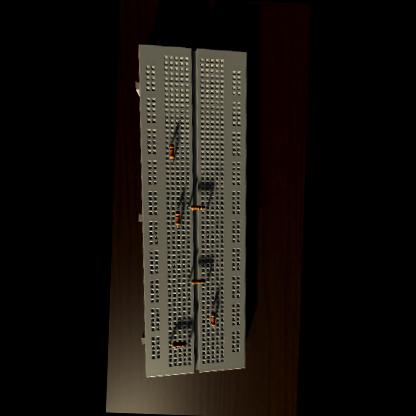breadboard: (125, 44, 257, 381)
resistor: (168, 144, 174, 159), (172, 341, 186, 347), (190, 205, 204, 210), (175, 211, 180, 225), (192, 279, 205, 284), (211, 312, 215, 326)
wire: (186, 340, 189, 345), (206, 278, 208, 282), (170, 341, 172, 345), (172, 160, 174, 164), (212, 306, 213, 312), (188, 279, 190, 282), (204, 208, 208, 209), (188, 207, 190, 208), (178, 226, 179, 228), (171, 142, 172, 144), (178, 208, 178, 210)
